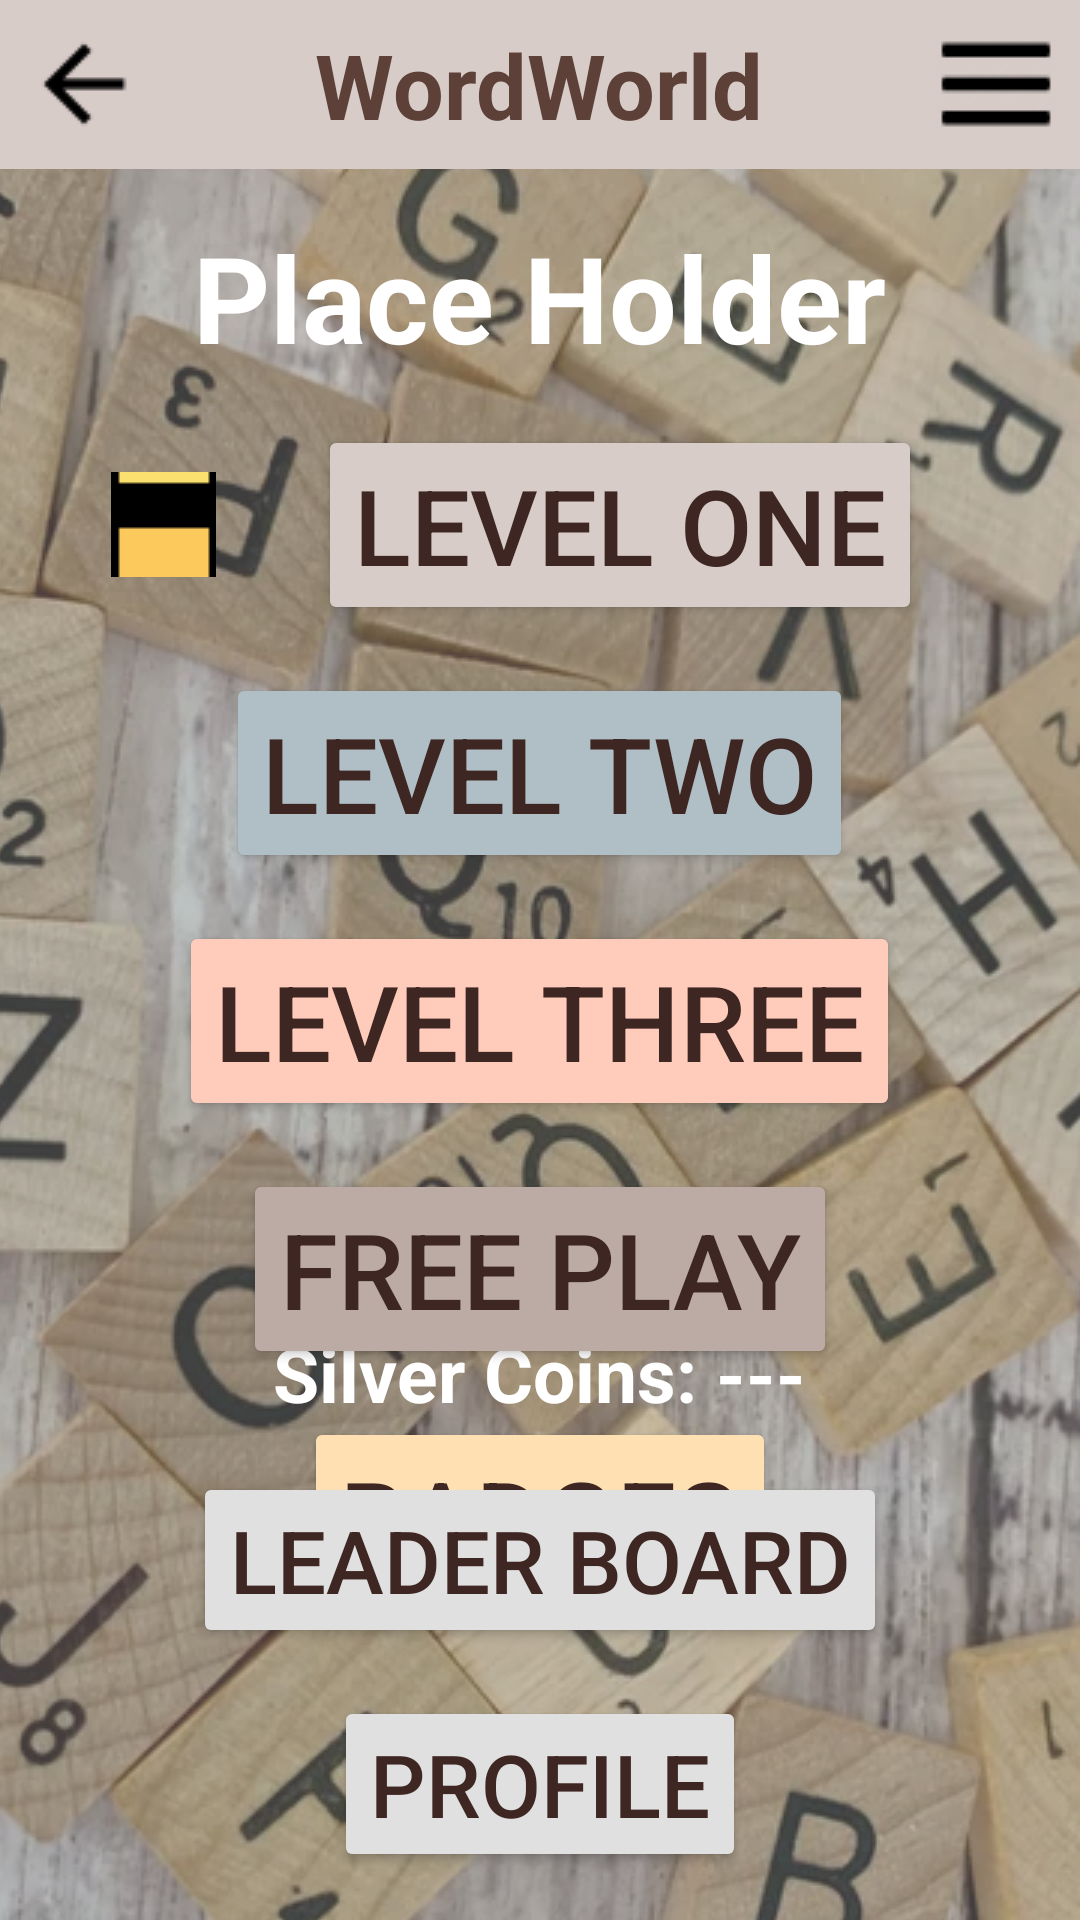

Locate icon controls on the screen. Image size 1080*1920, boxes as [left=x1, top=y1, right=x2, bottom=y2].
Back: [left=44, top=44, right=127, bottom=124]
Navigation: [left=941, top=41, right=1051, bottom=127]
